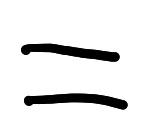eqv: (21, 43, 128, 110)
